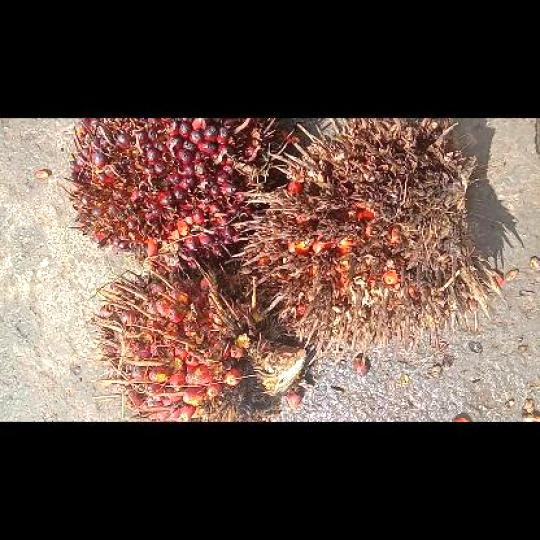masak: (86, 255, 306, 420), (61, 118, 284, 274)
terlalu masak: (225, 117, 502, 363)
